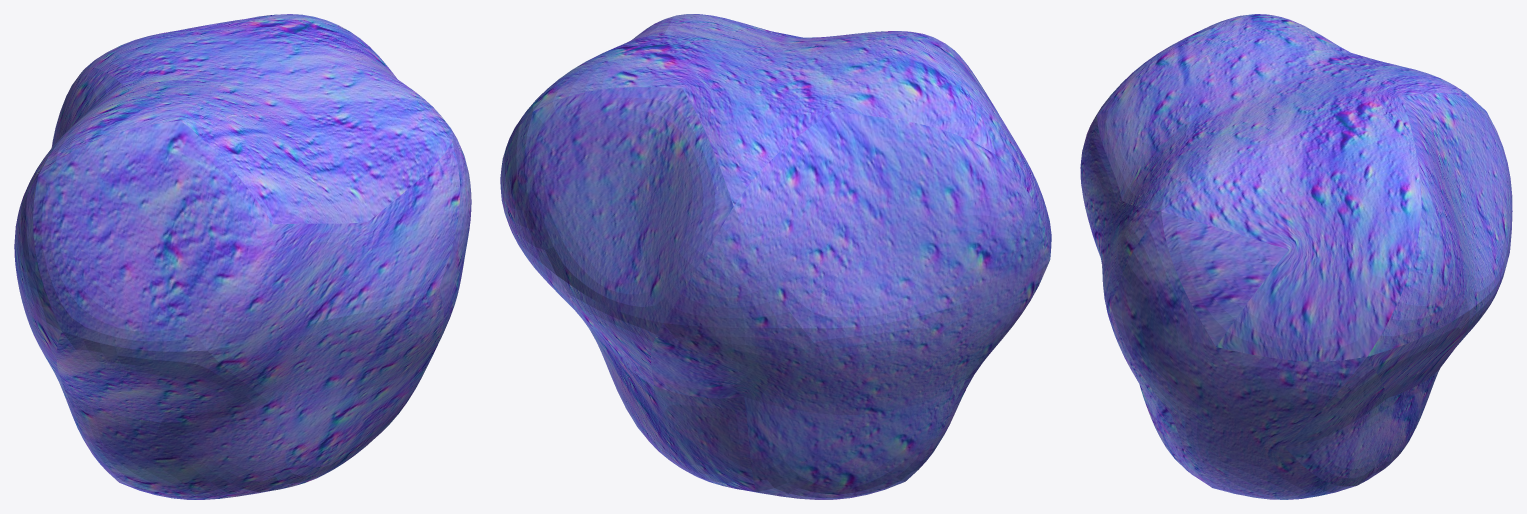
Rendered from bigasteroid18_LOD1.fbx.
The picture shows the model from 3 angles, left to right: view 1: azimuth 30°, elevation 25°; view 2: azimuth 150°, elevation 25°; view 3: azimuth 270°, elevation 25°; orthographic projection. The views are drawn at different scales.
Parts seen in each view (by area): view 1: Icosphere; view 2: Icosphere; view 3: Icosphere.
Part boxes in pixels (box(x1,y1,x2,y2)): Icosphere: box(14, 14, 471, 499); Icosphere: box(500, 14, 1051, 499); Icosphere: box(1080, 14, 1512, 499).
Bounding box in the file's own units: 271 × 231 × 231.
